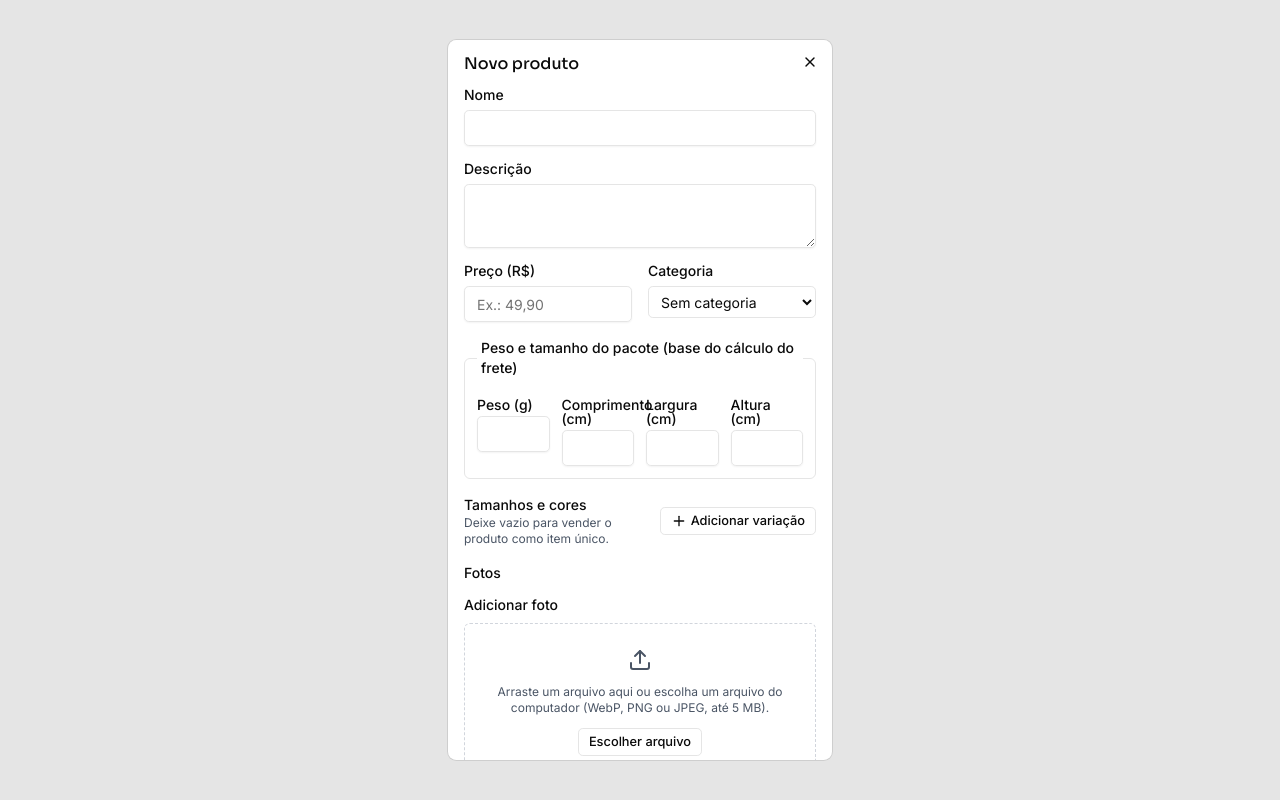
Test case: StoreProductDialog › falha inesperada da ação (ex.: sessão expirada) mostra uma mensagem em português
The width and height of the screenshot is (1280, 800).
Type "Camiseta" into the field labelled "Nome" at (640, 128), box [464,110,816,146]
Type "49,90" into the field labelled "Preço (R$)" at (548, 304), box [464,286,632,322]
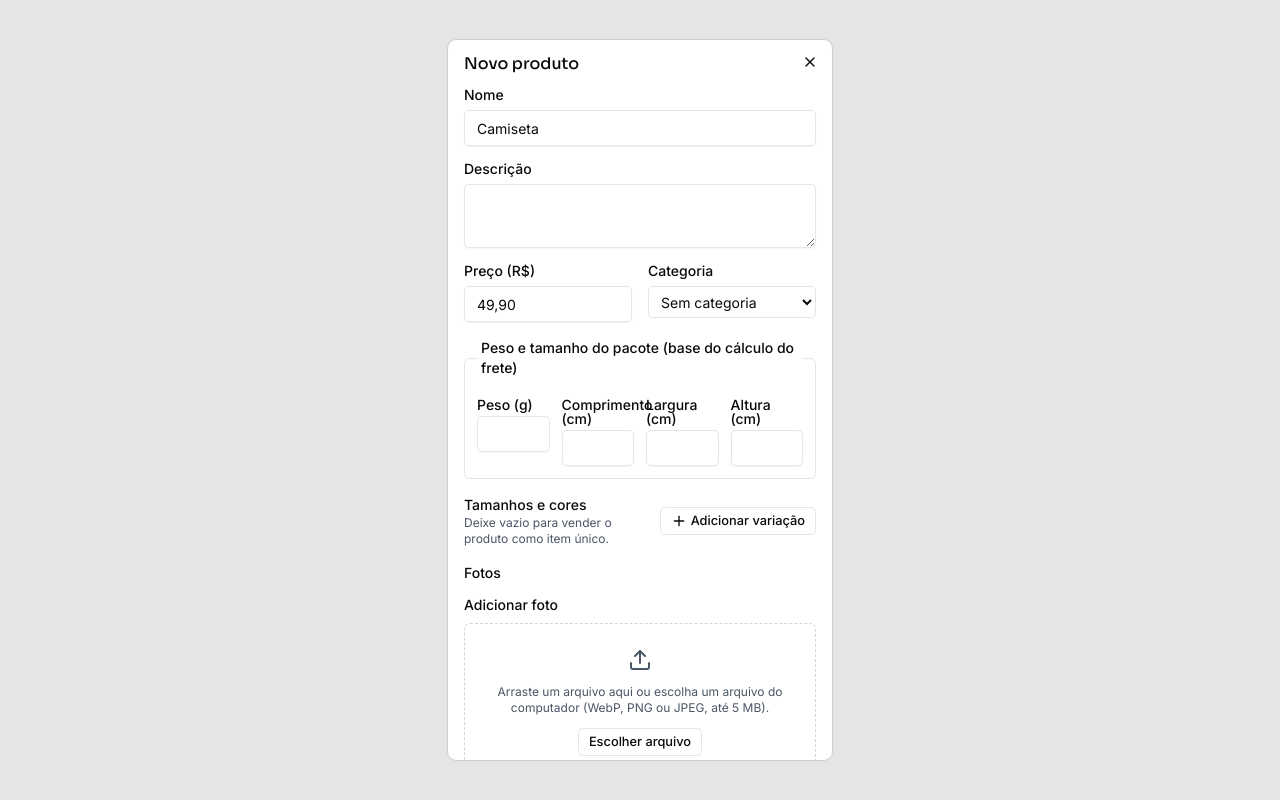
Type "200" into the field labelled "Peso (g)" at (513, 434), box [477,416,550,452]
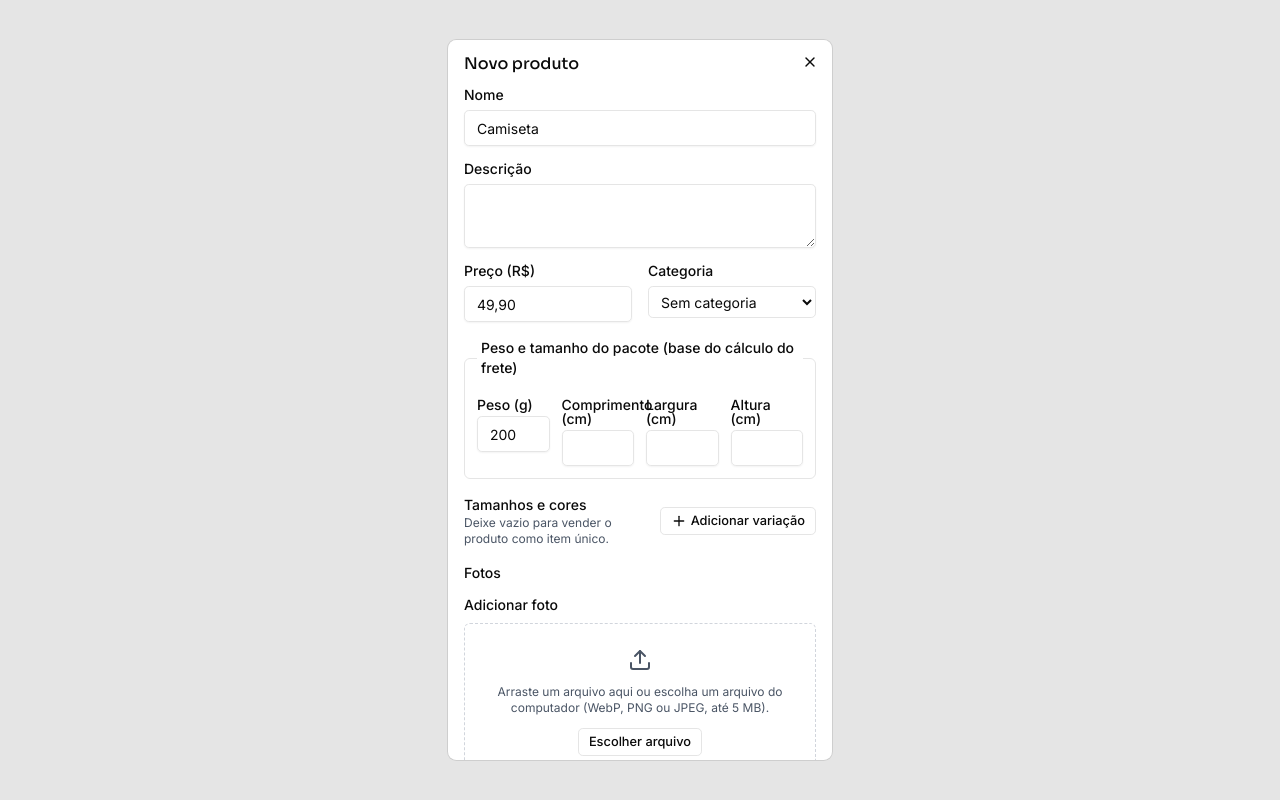
Type "30" into the field labelled "Comprimento (cm)" at (598, 448), box [562,430,634,466]
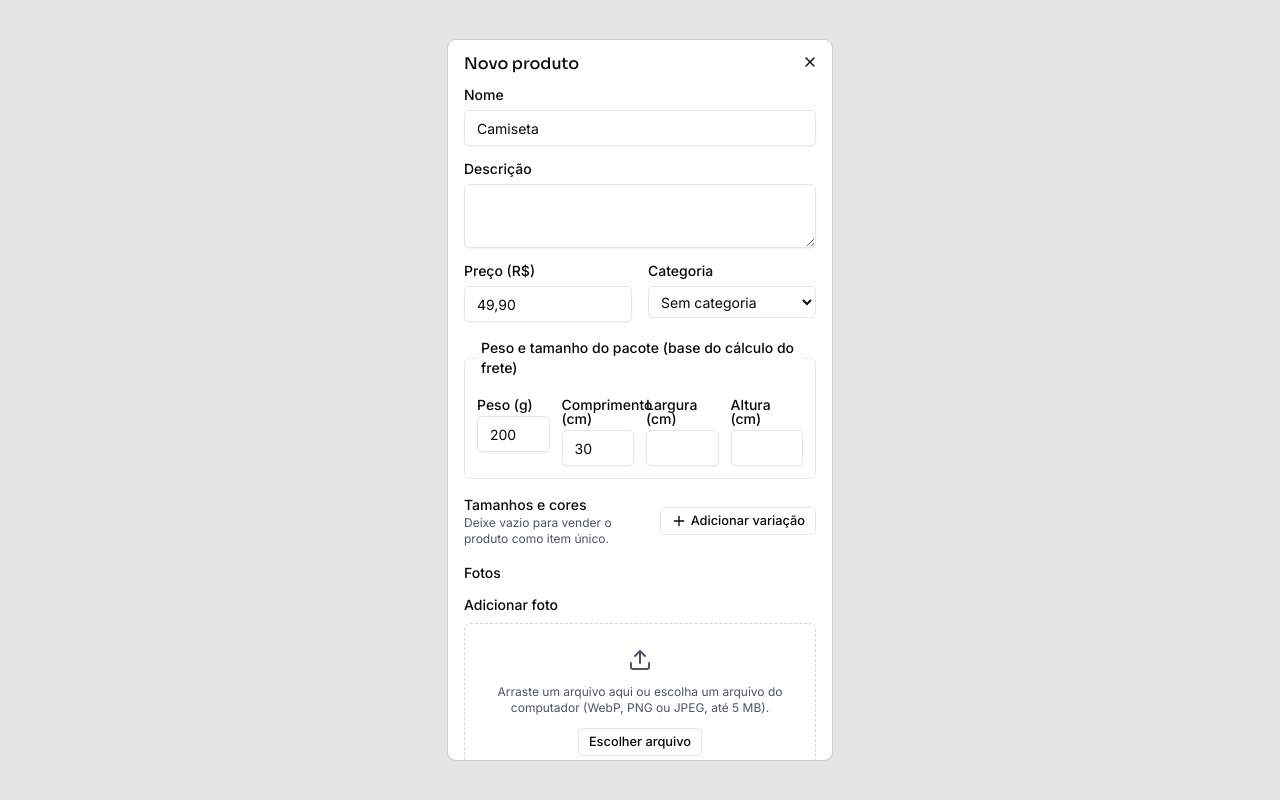
Type "25" into the field labelled "Largura (cm)" at (682, 448), box [646,430,718,466]
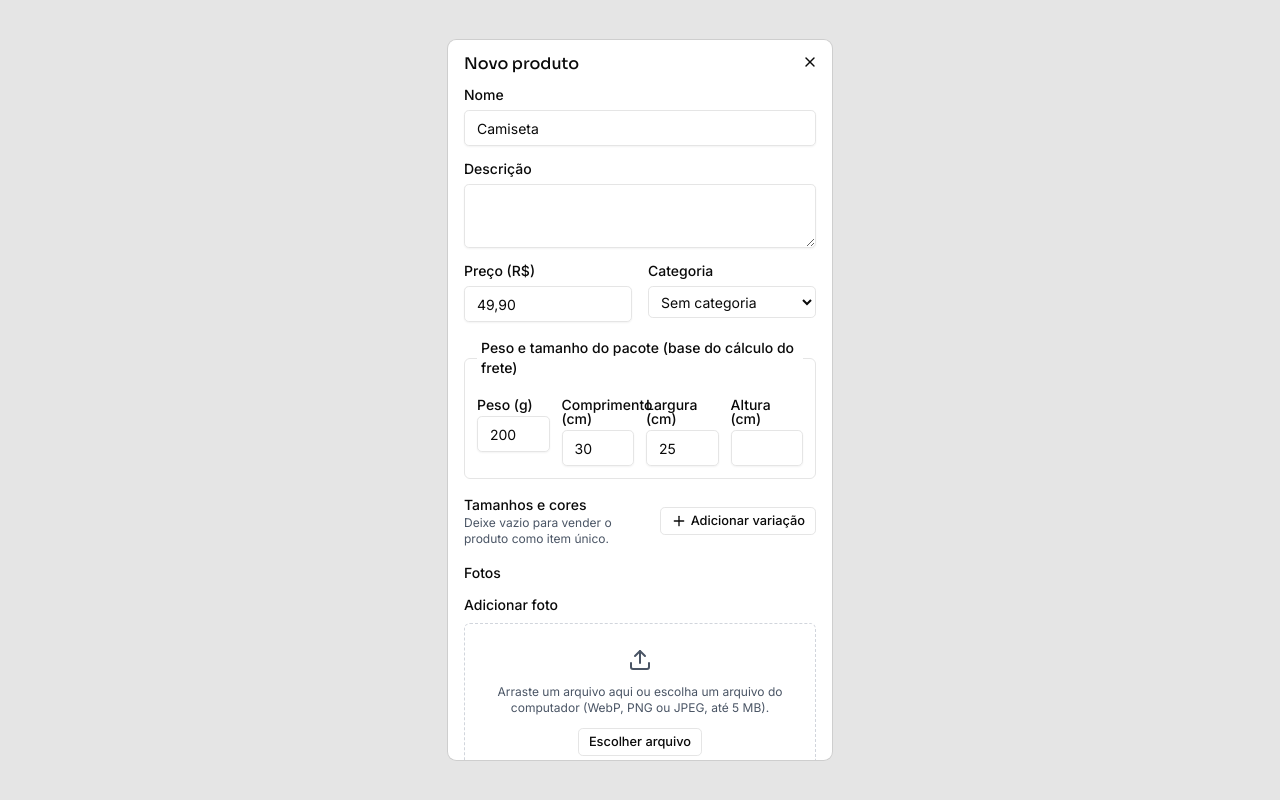
Type "3" into the field labelled "Altura (cm)" at (767, 448), box [730,430,803,466]
(page scrolled)
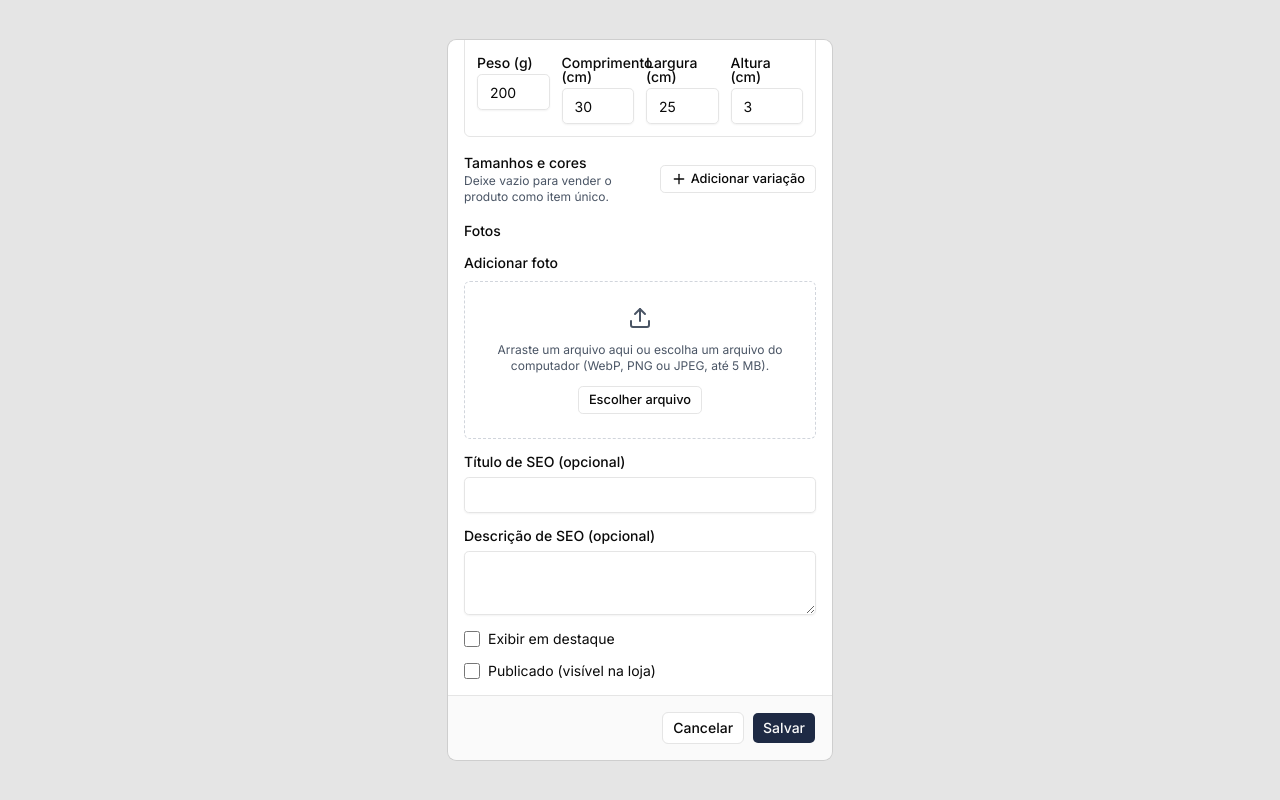
Click the button "Salvar" at (784, 728), box [752,712,816,744]
(page scrolled)
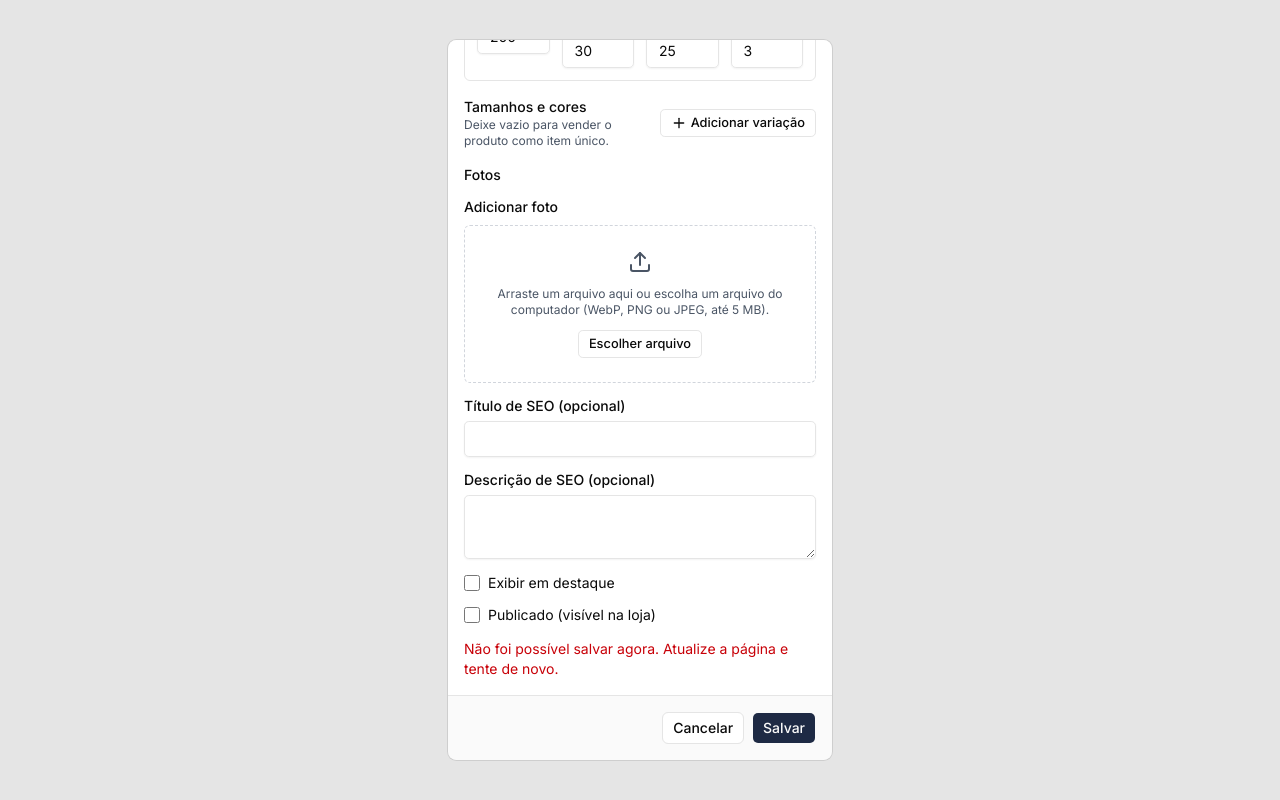
Result: the message reads "Não foi possível salvar agora. Atualize a página e tente de novo." at [464,640,788,677]
